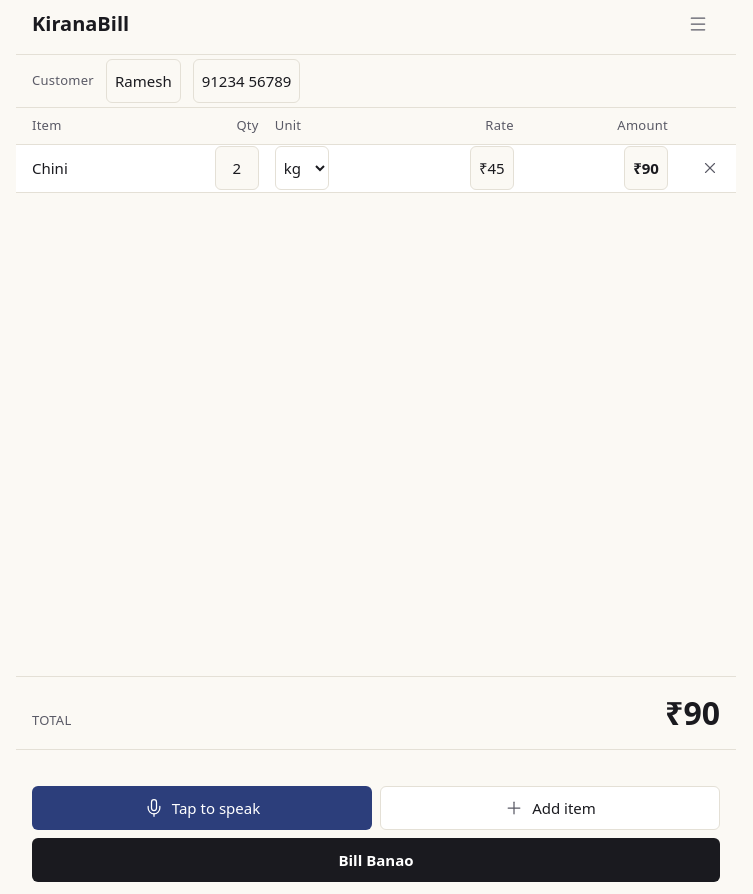
Test: KB-308 - the receipt on the saved screen › Bill Banao -> the receipt of the bill as stored; the name is printed, the mobile appears NOWHERE in the page
Click the button "Bill Banao": (376, 860) x1=32 y1=838 x2=720 y2=882
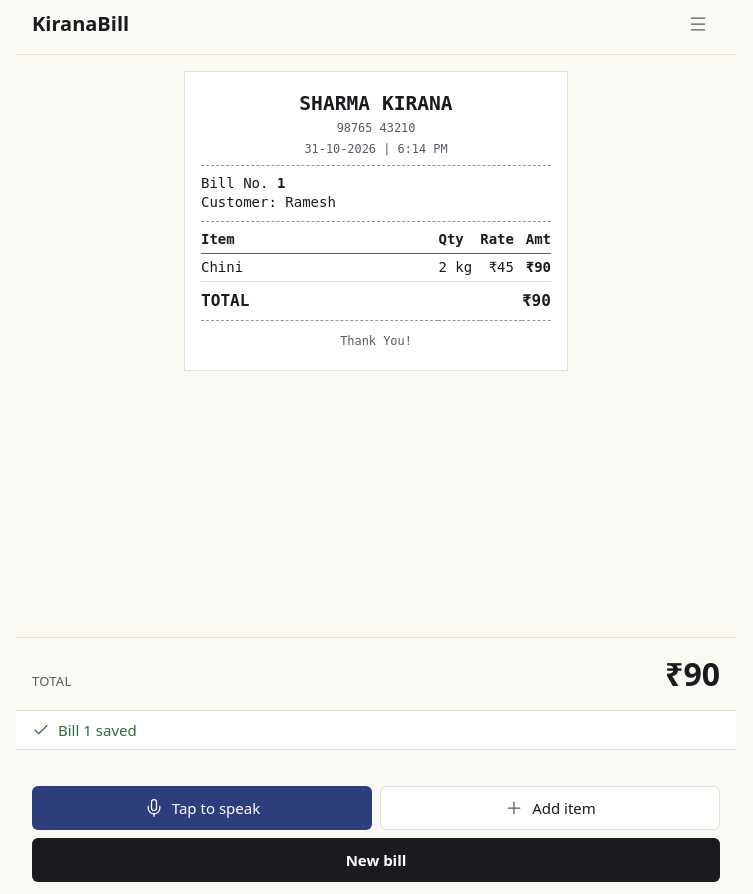
Expected: the text with test id "receipt-number" reads "1", x1=277 y1=175 x2=285 y2=191
Expected: the text with test id "receipt-customer" reads "Customer: Ramesh", x1=201 y1=194 x2=336 y2=210
Expected: the message named "Bill saved" is shown, x1=16 y1=710 x2=736 y2=749
